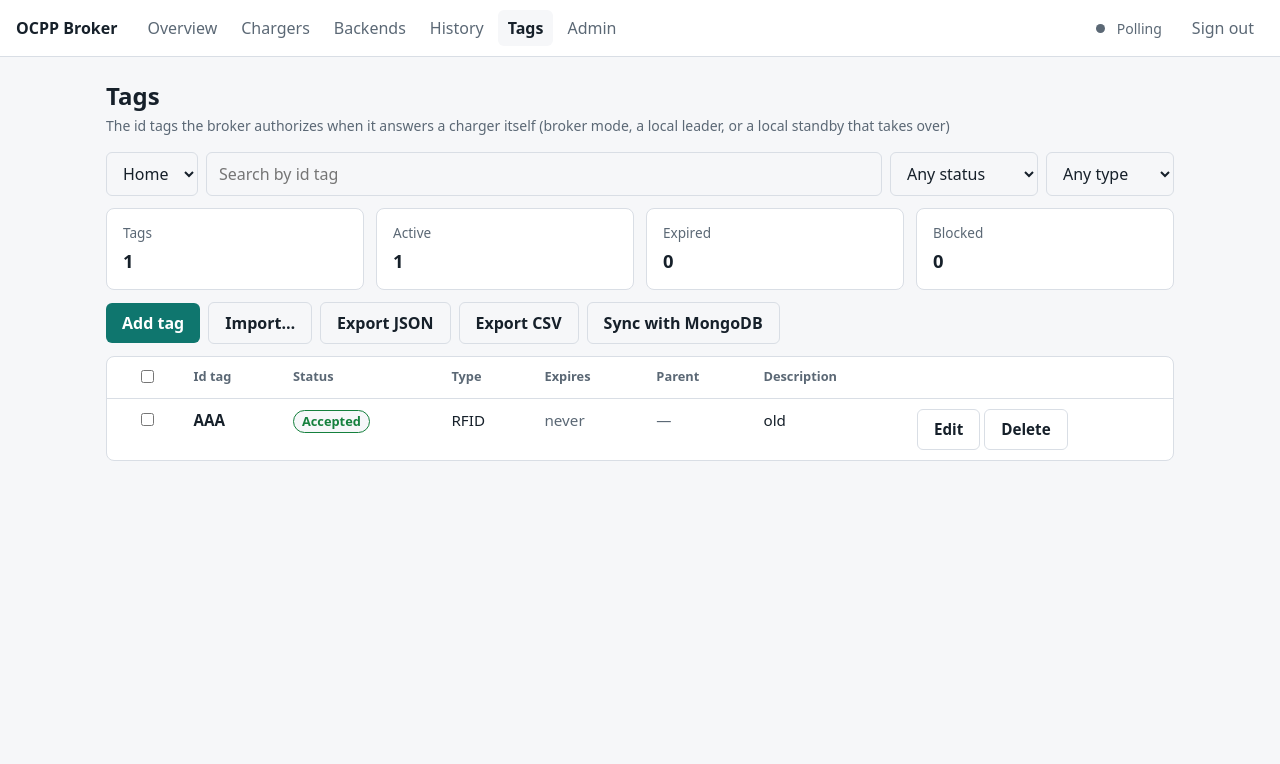
Test: adding and changing a tag › changes a tag: the id cannot be edited, the broker is asked for an update, and unseen metadata is kept
Check: the heading "Tags" is shown, box x1=106 y1=79 x2=160 y2=112
Click the button with aria-label "Edit AAA" at (949, 430), box x1=917 y1=409 x2=980 y2=450
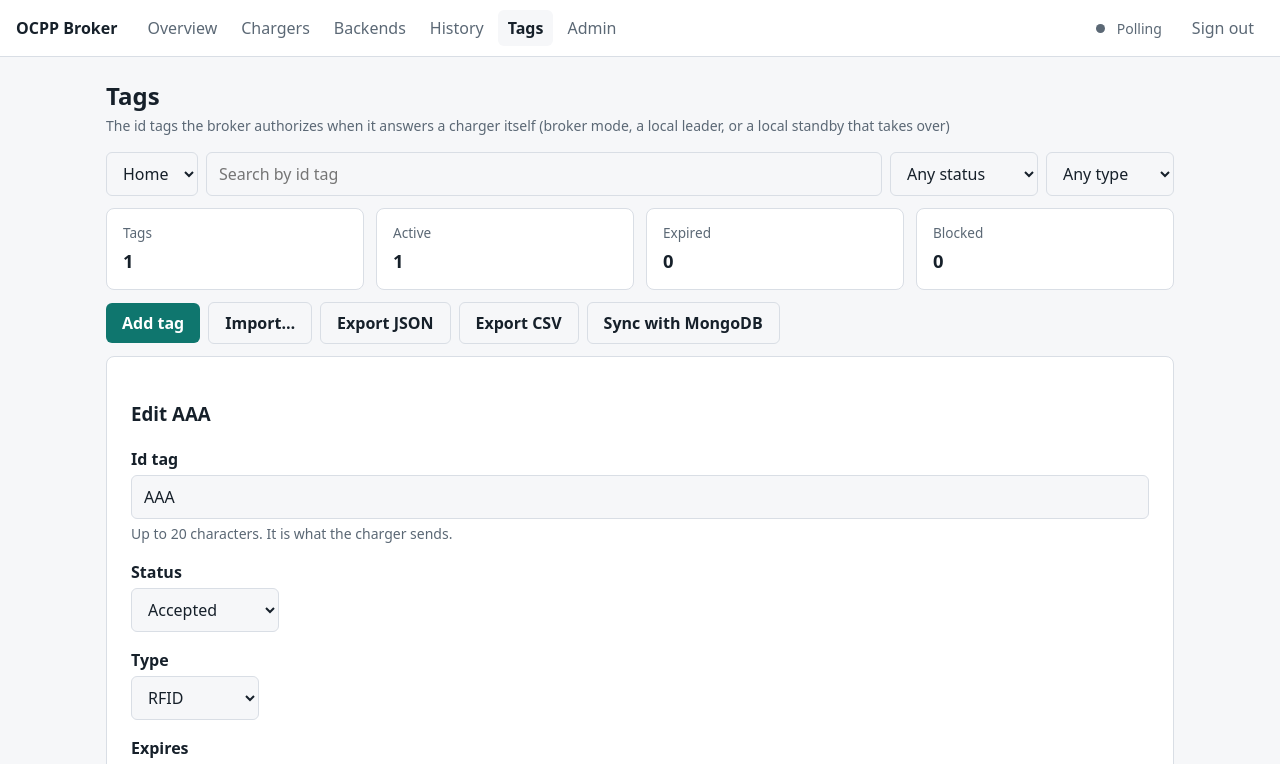
Select "Blocked" in the dropdown labelled "Status" at (205, 610), box x1=131 y1=588 x2=279 y2=632
(page scrolled)
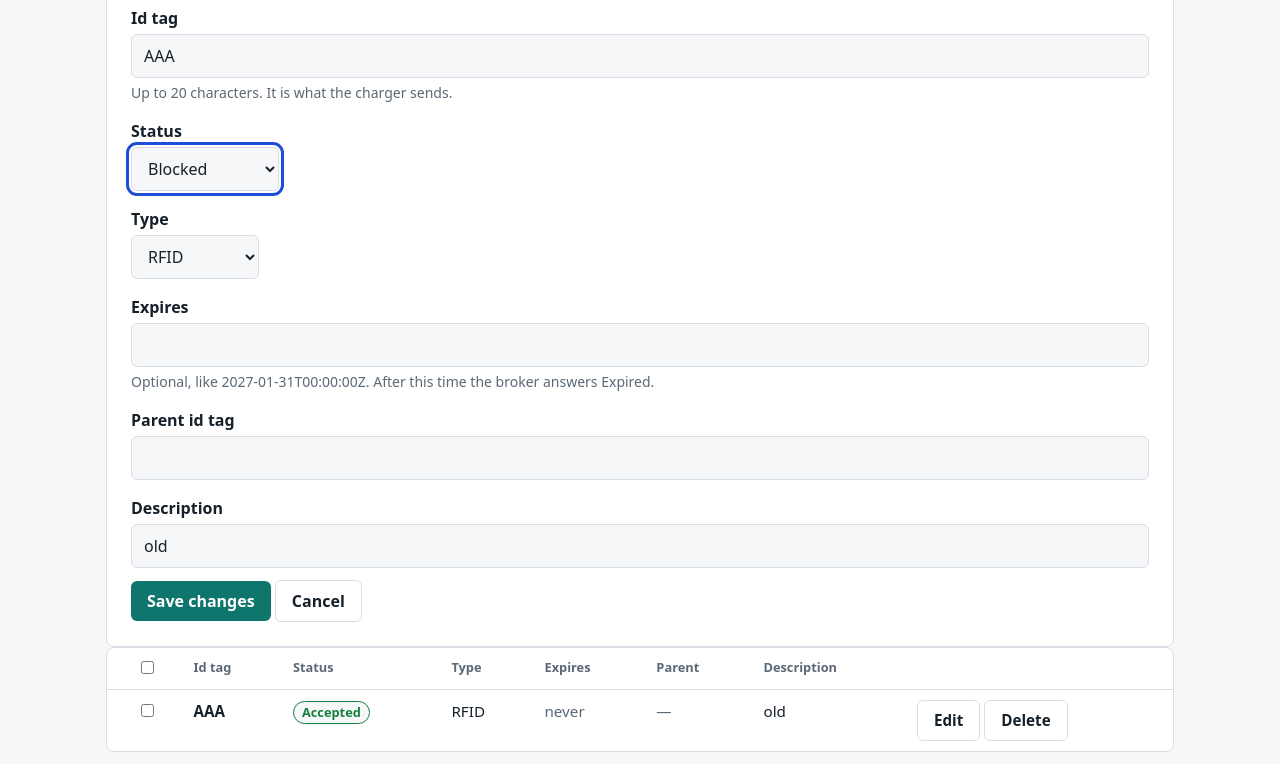
Clear the field labelled "Description" at (640, 546), box x1=131 y1=524 x2=1149 y2=568
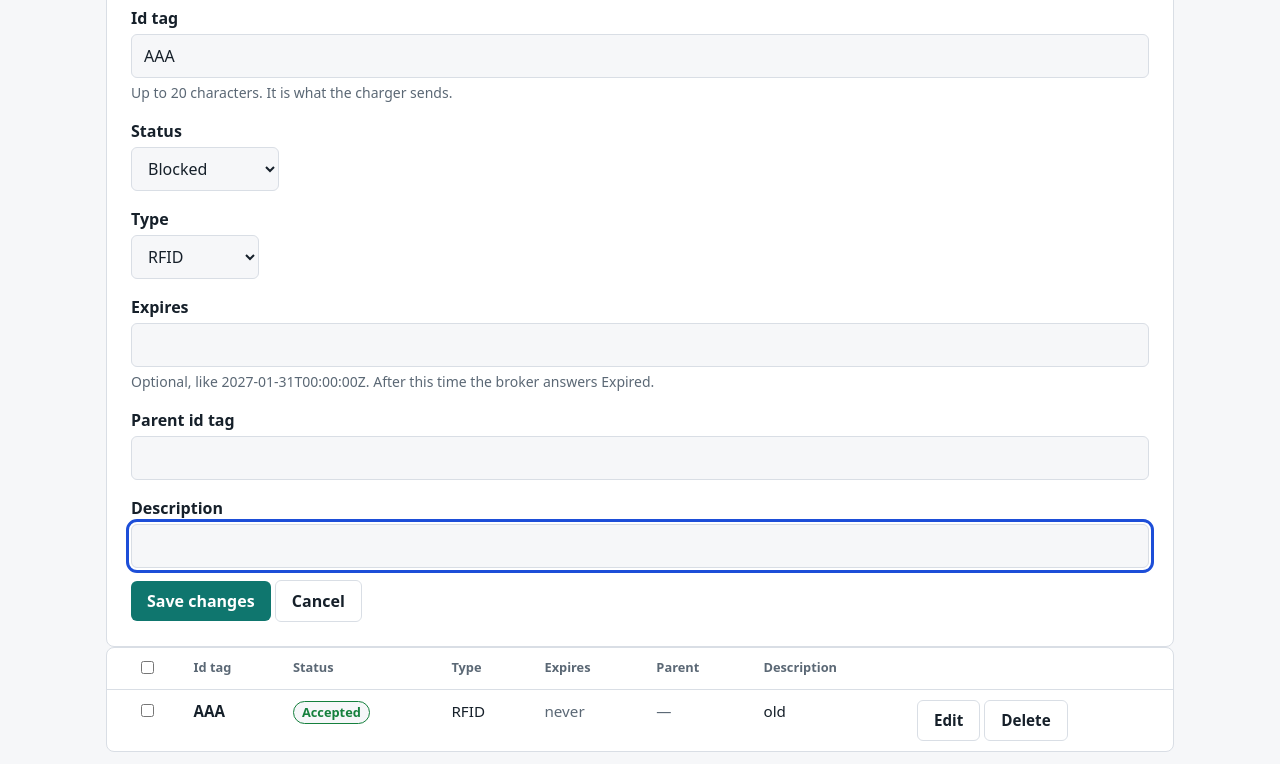
Click the button "Save changes" at (201, 600), box x1=131 y1=580 x2=271 y2=620
(page scrolled)
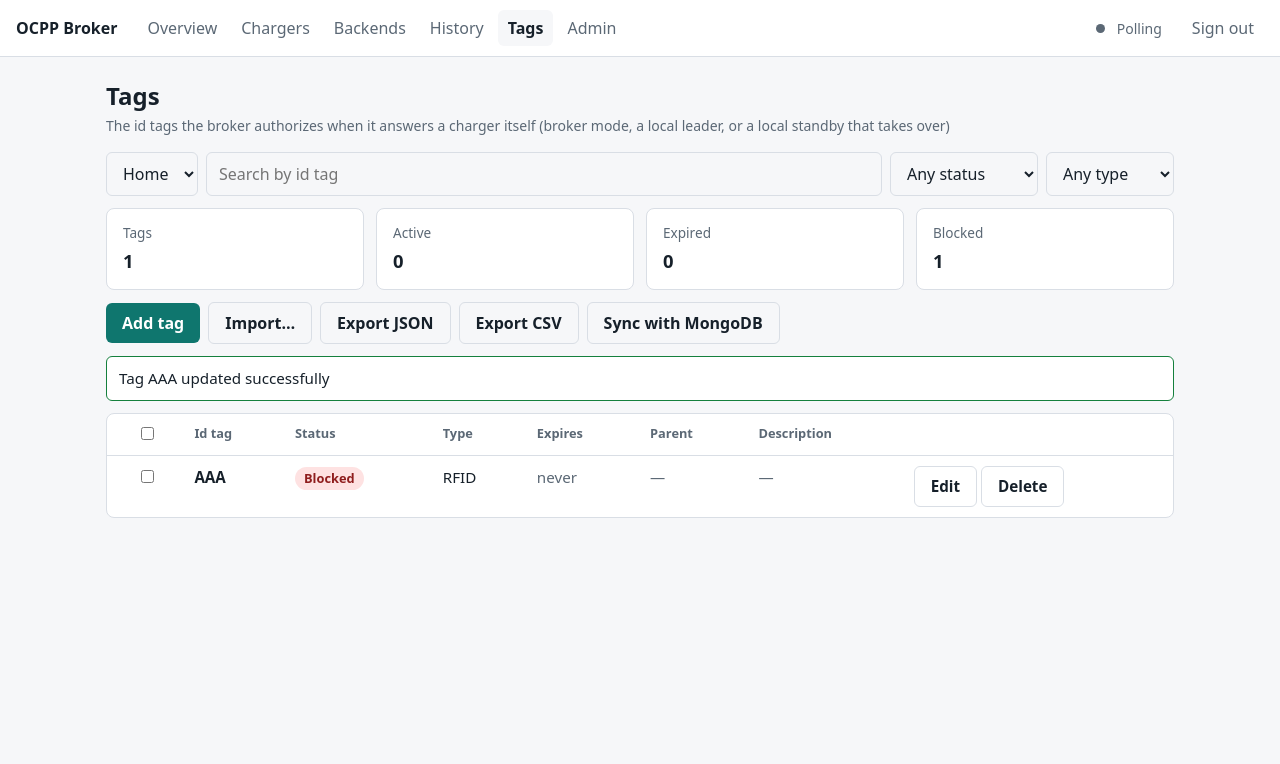
Check: the text "Tag AAA updated successfully" is shown, box x1=106 y1=356 x2=1174 y2=401
